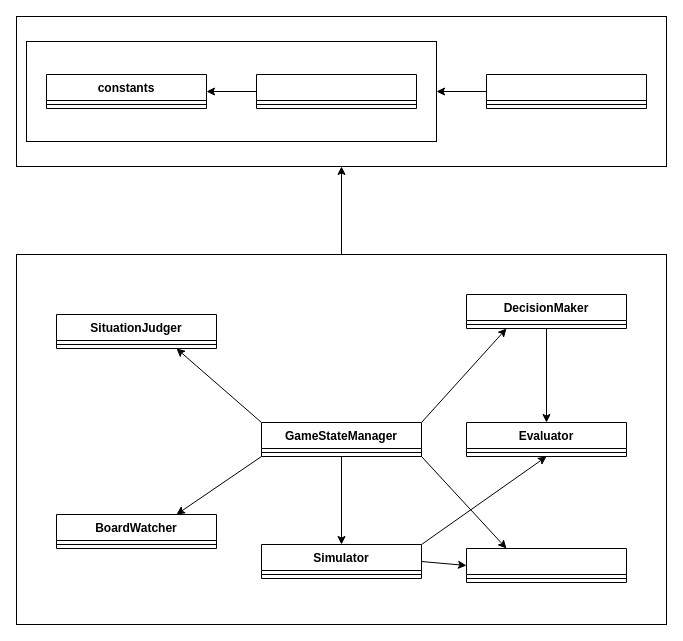
Image size: 683x641. Some labels were removed from this diagram. The box of each missing label's shape, as (x1, y1, x2, y2) in pixels:
classes: (256, 74, 416, 108)
helpers: (486, 74, 646, 108)
MinoMover: (466, 548, 626, 582)
